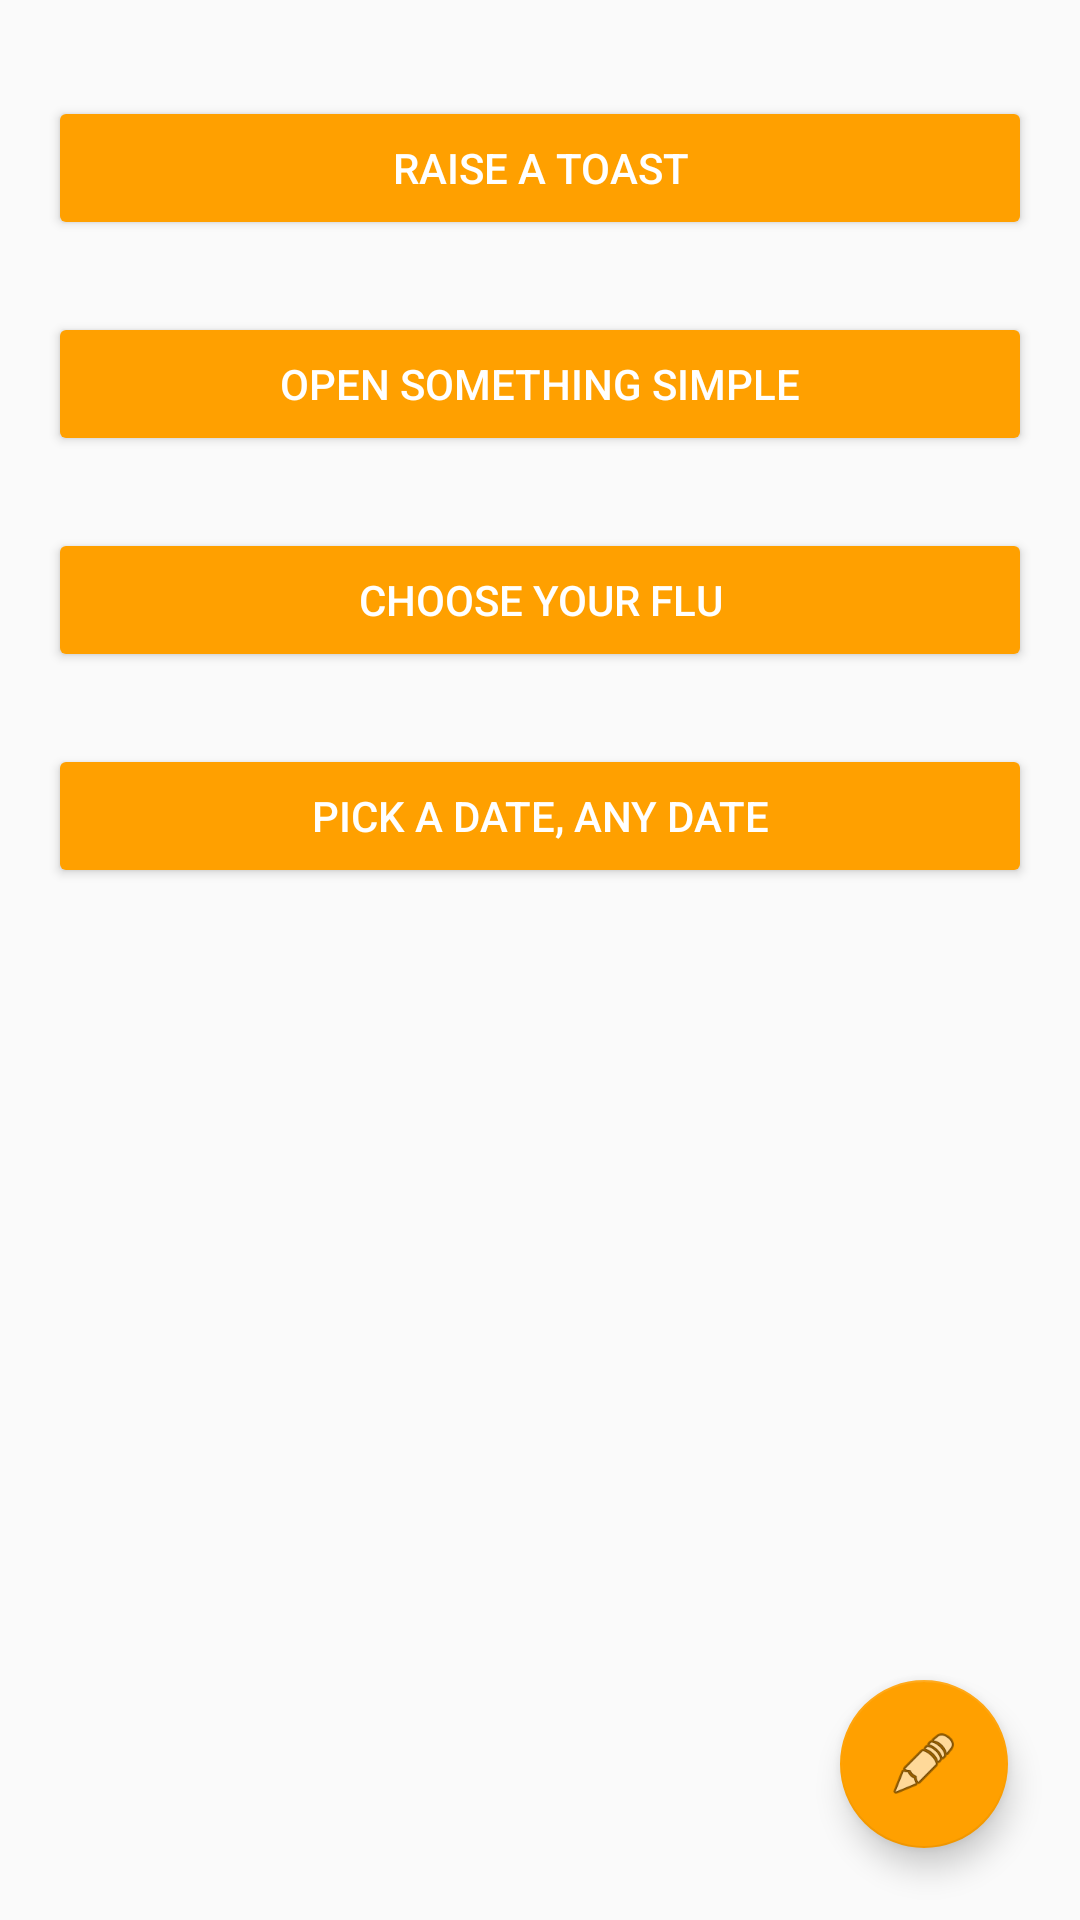

Icons on this 1080x1920 Android screen, each with its box as bbox(x1, y1, x2, y2):
edit: bbox(840, 1680, 1008, 1848)
